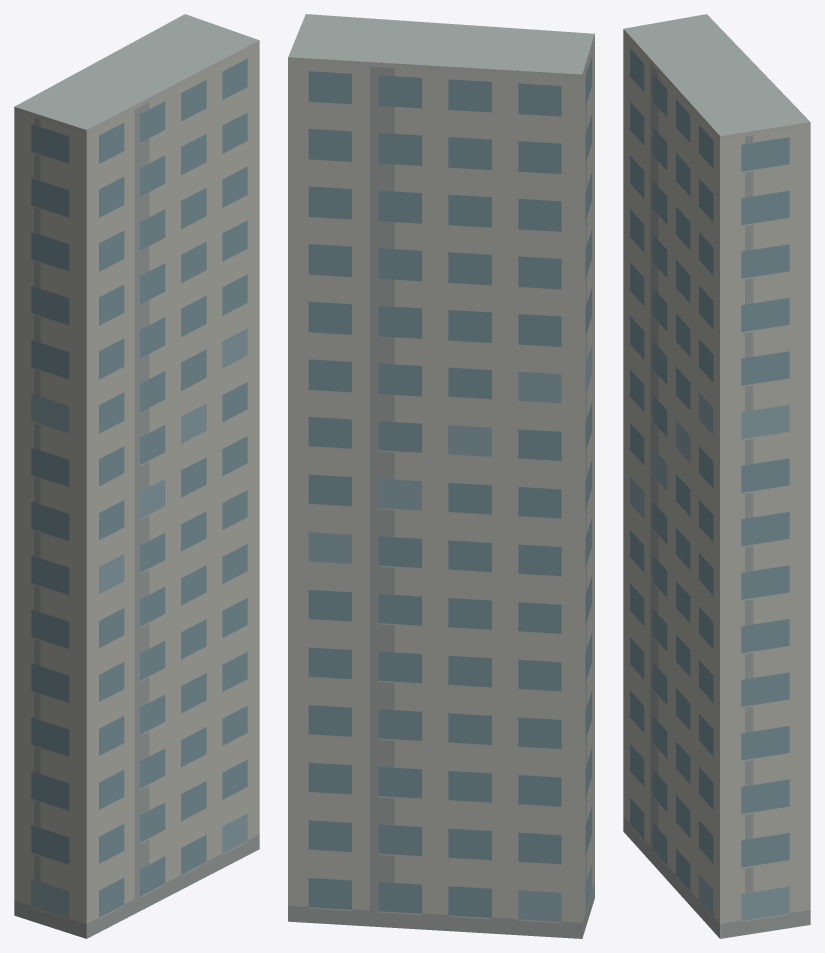
File: survey-upis-32491027.glb
3 views of the same model, side by side, from view 1: azimuth 30°, elevation 25°; view 2: azimuth 150°, elevation 25°; view 3: azimuth 270°, elevation 25° (orthographic). The views are drawn at different scales.
Parts seen in each view (by area): view 1: survey-upis-32491027.tmp; view 2: survey-upis-32491027.tmp; view 3: survey-upis-32491027.tmp.
Boxes of the visible parts, box(x1,y1,x2,y2) form: survey-upis-32491027.tmp: box(14, 14, 259, 938); survey-upis-32491027.tmp: box(288, 14, 594, 938); survey-upis-32491027.tmp: box(623, 14, 810, 938).
Size of the model in its own units: 14.93 by 45.75 by 9.68.
